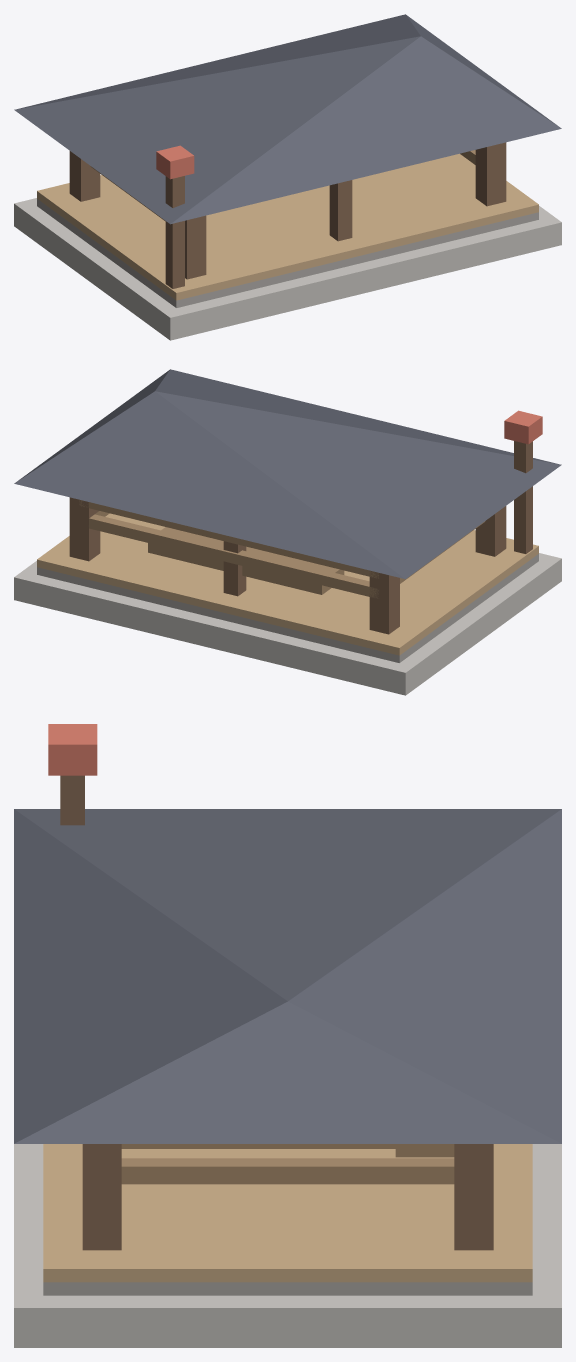
File: station_望台.glb
3 views of the same model, one above another, from view 1: azimuth 30°, elevation 25°; view 2: azimuth 150°, elevation 25°; view 3: azimuth 270°, elevation 25° (orthographic). The views are drawn at different scales.
Parts seen in each view (by area): view 1: 望台; view 2: 望台; view 3: 望台.
Boxes of the visible parts, x1=… form: 望台: x1=14, y1=14, x2=561, y2=340; 望台: x1=14, y1=369, x2=561, y2=695; 望台: x1=14, y1=724, x2=561, y2=1347.
Bounding box in the file's own units: 1.62 × 0.67 × 1.12.
